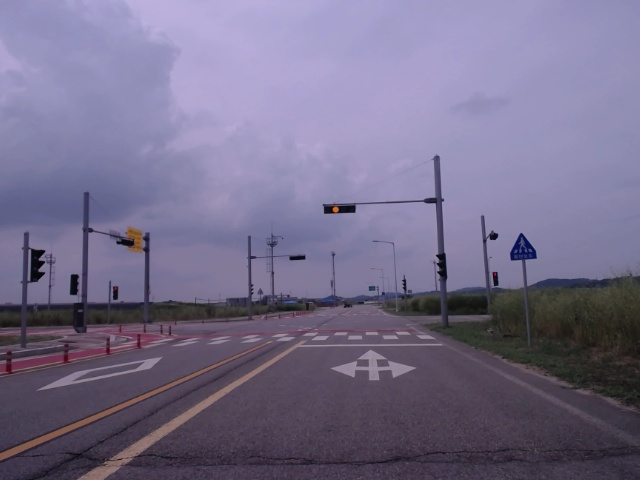orange_4: (321, 202, 358, 214)
